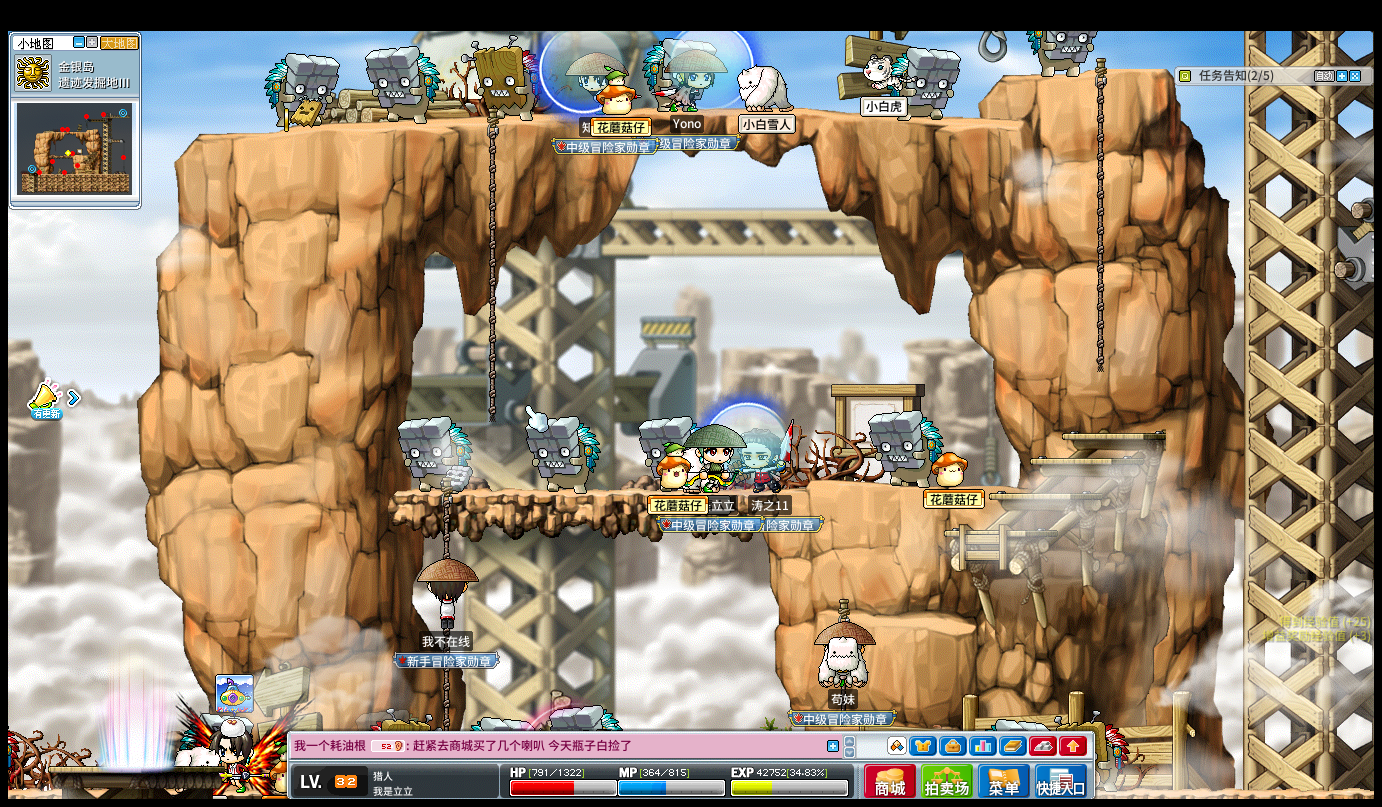floor: (178, 104, 1049, 140), (390, 487, 771, 501), (1004, 64, 1170, 78), (1000, 68, 1171, 81), (870, 613, 975, 634), (1061, 429, 1166, 442), (879, 482, 1027, 491), (942, 528, 1055, 537), (1024, 456, 1136, 465), (993, 491, 1102, 500)
monster: (463, 33, 536, 119), (364, 44, 440, 125), (396, 415, 474, 492), (263, 52, 340, 129), (869, 409, 941, 487), (529, 416, 601, 493), (894, 46, 962, 120), (637, 416, 693, 458)
rope: (1093, 57, 1107, 378), (485, 106, 498, 418), (437, 483, 451, 561), (440, 669, 449, 726)
